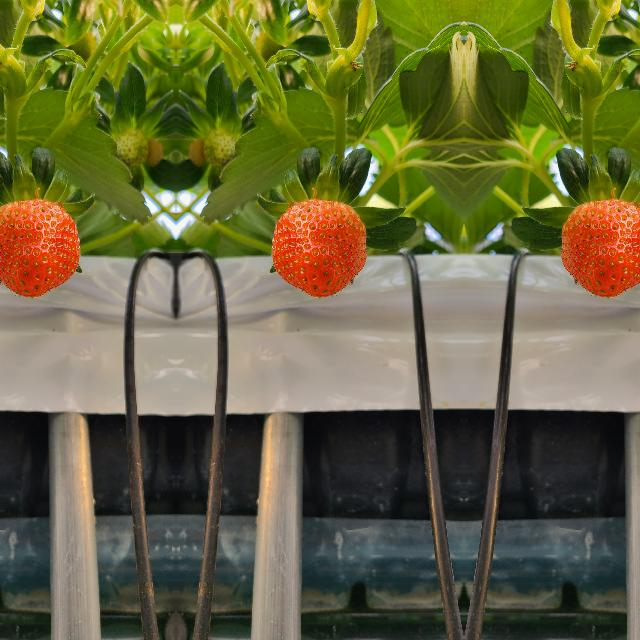Health_100: (268, 197, 366, 297), (0, 197, 82, 297), (560, 197, 640, 297)
